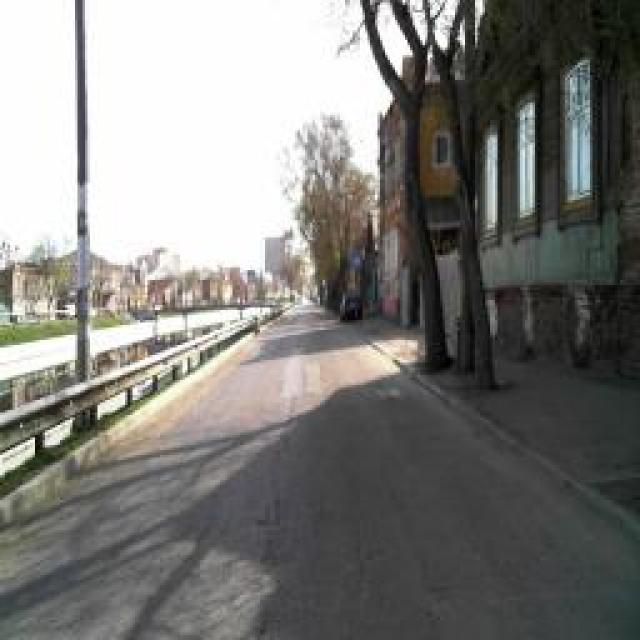sign: (351, 249, 364, 269), (246, 267, 256, 285)
